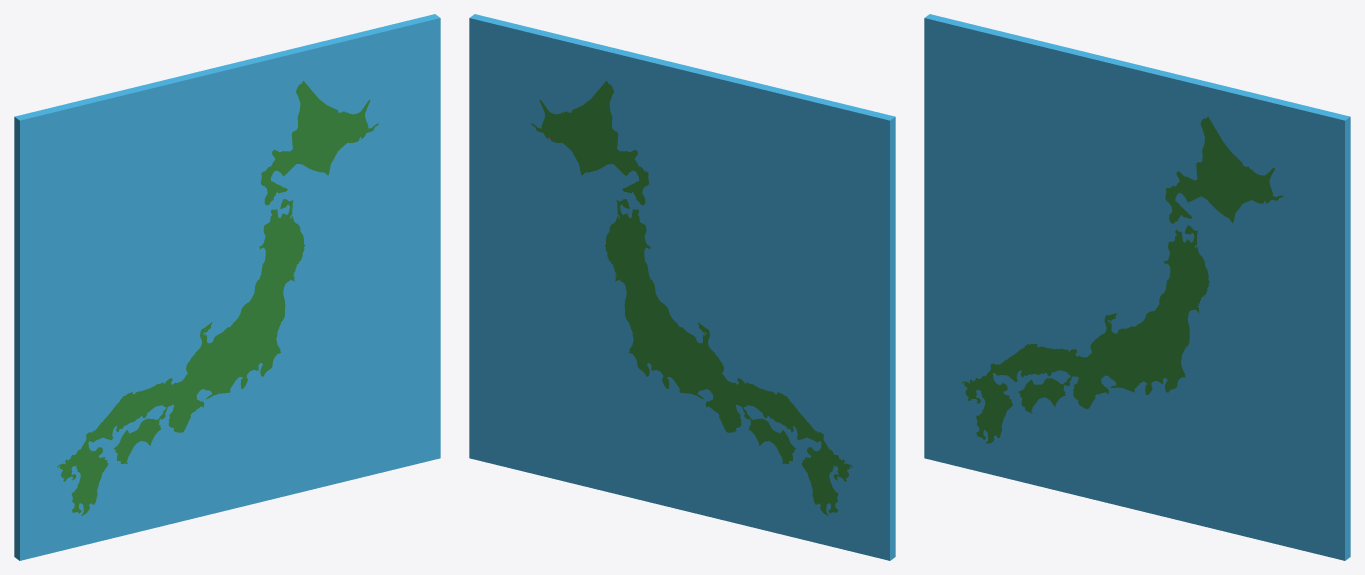
Rendered from map_of_japan.gltf.
3 views of the same model, side by side, from view 1: azimuth 30°, elevation 25°; view 2: azimuth 150°, elevation 25°; view 3: azimuth 330°, elevation 25° (orthographic).
Visible parts, largest first — view 1: Plane.224; view 2: Plane.224; view 3: Plane.224.
Boxes of the visible parts, x1,y1,x2,y2 form: Plane.224: (14, 14, 440, 560); Plane.224: (469, 14, 895, 560); Plane.224: (924, 14, 1350, 560).
Bounding box in the file's own units: 2 × 2 × 0.0449.
Materials: 1 (1 with a texture image).
